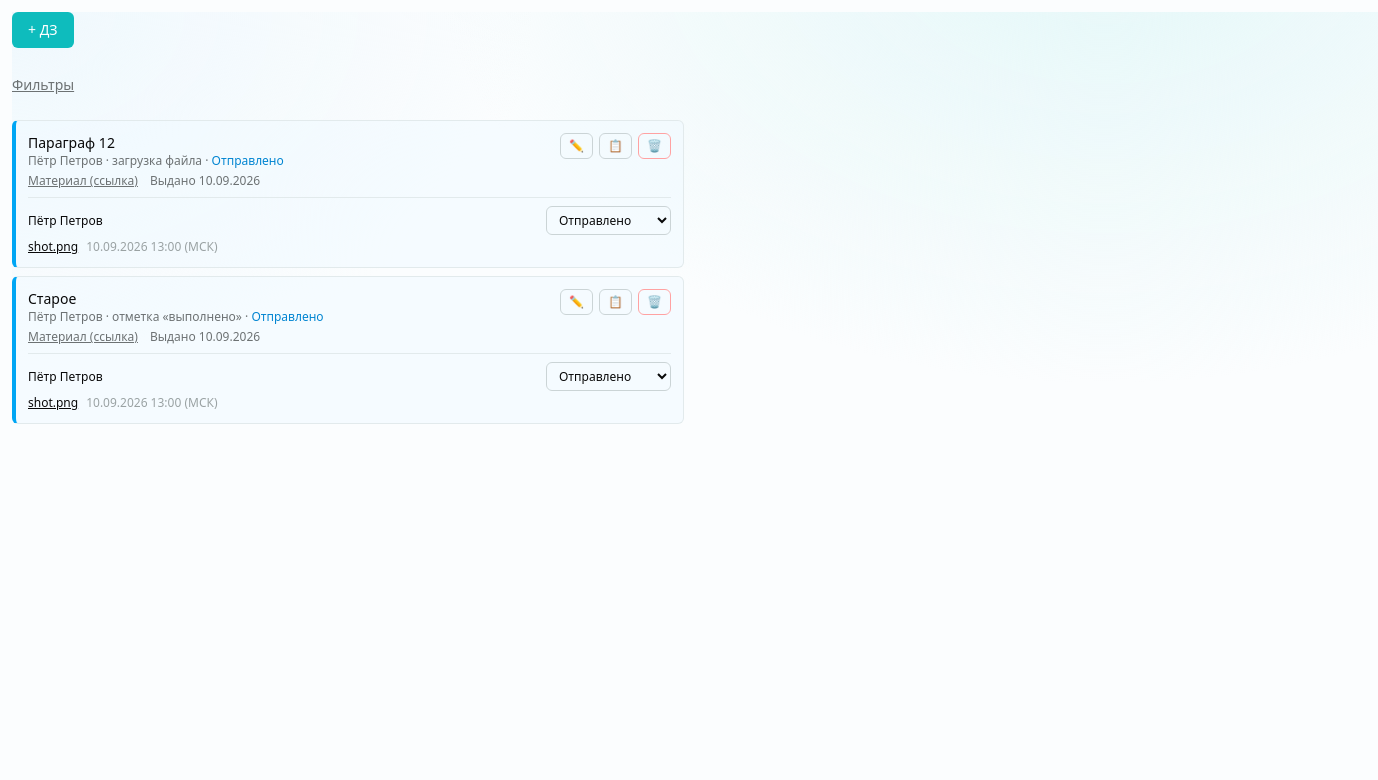
it: tutor HomeworkTab › новое задание берёт название и способ сдачи из последнего, но не материал
The width and height of the screenshot is (1378, 780).
Click the button "+ ДЗ". click: point(43, 30)
box: [12,12,74,48]
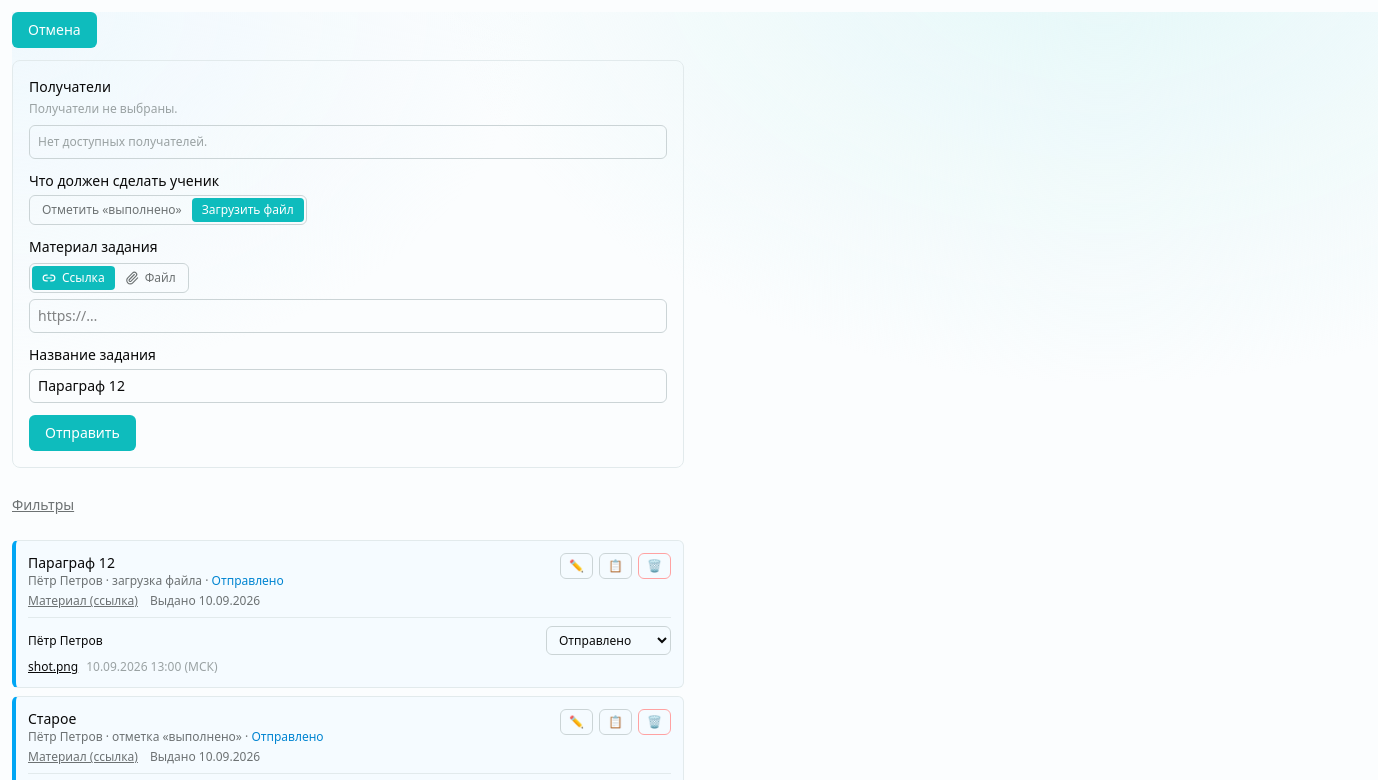
expect the field labelled "Название задания" holds "Параграф 12": met, box [29,369,667,403]
expect the field named "Ссылка на материал" is empty: met, box [29,299,667,333]
expect the button "Загрузить файл" is shown: met, box [192,198,304,222]
